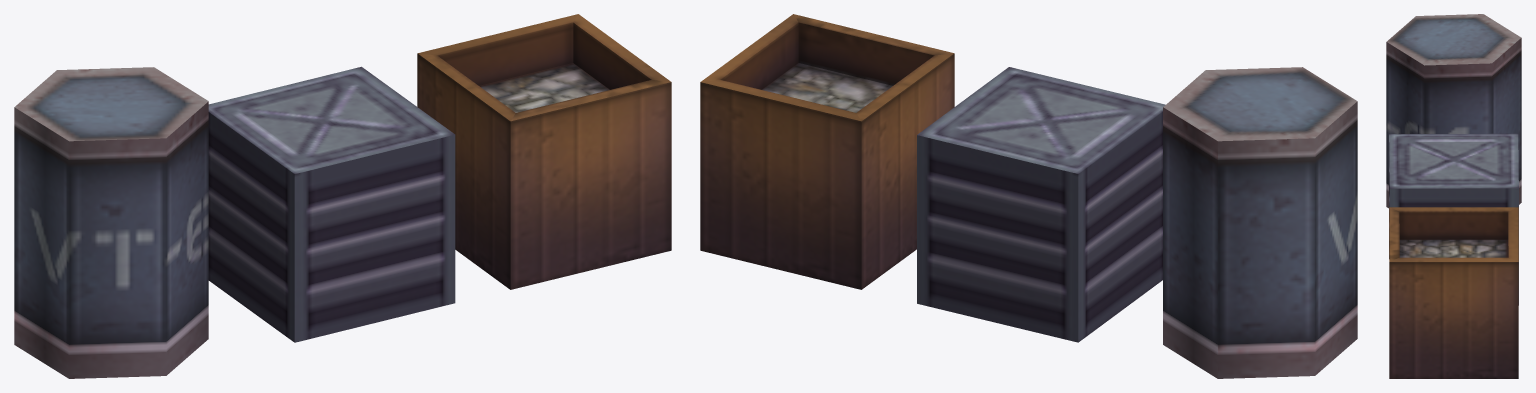
The model's file is S2_MoveCube.FBX.
The picture shows the model from 3 angles, left to right: view 1: azimuth 30°, elevation 25°; view 2: azimuth 150°, elevation 25°; view 3: azimuth 270°, elevation 25°; orthographic projection. The views are drawn at different scales.
Parts seen in each view (by area): view 1: MoveCube_3, MoveCube_1, MoveCube_2; view 2: MoveCube_3, MoveCube_1, MoveCube_2; view 3: MoveCube_2, MoveCube_3, MoveCube_1.
Boxes of the visible parts, bbox=[...] form: MoveCube_3: bbox=[14, 67, 208, 378]; MoveCube_1: bbox=[208, 66, 455, 342]; MoveCube_2: bbox=[417, 14, 671, 289]; MoveCube_3: bbox=[1163, 67, 1357, 378]; MoveCube_1: bbox=[917, 67, 1165, 342]; MoveCube_2: bbox=[700, 14, 954, 289]; MoveCube_2: bbox=[1389, 207, 1518, 378]; MoveCube_3: bbox=[1386, 14, 1521, 208]; MoveCube_1: bbox=[1389, 133, 1518, 305].
Size of the model in its own units: 421 by 120 by 162.
